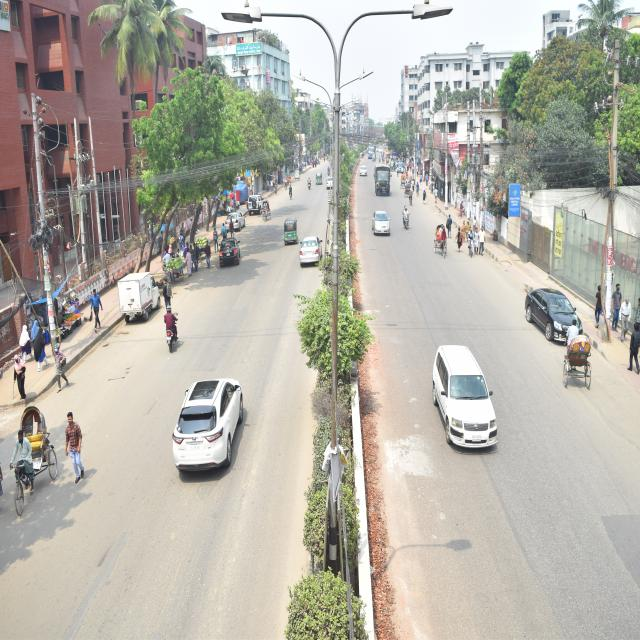car: (170, 373, 246, 479), (432, 342, 500, 454), (524, 282, 587, 346), (217, 234, 241, 268), (300, 234, 322, 264), (372, 209, 391, 237), (245, 192, 267, 214), (226, 210, 244, 233)
motorbike: (165, 310, 179, 350), (402, 208, 412, 230)
pickup-van: (117, 270, 159, 323)
